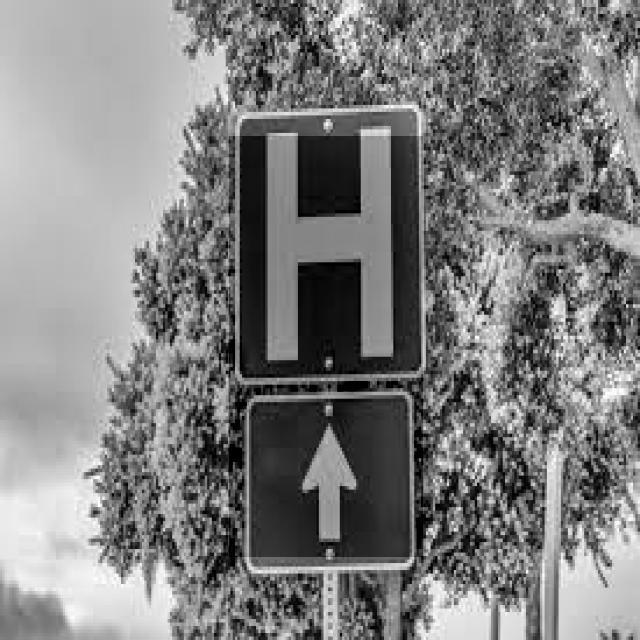hospital ahead: (237, 112, 426, 383)
